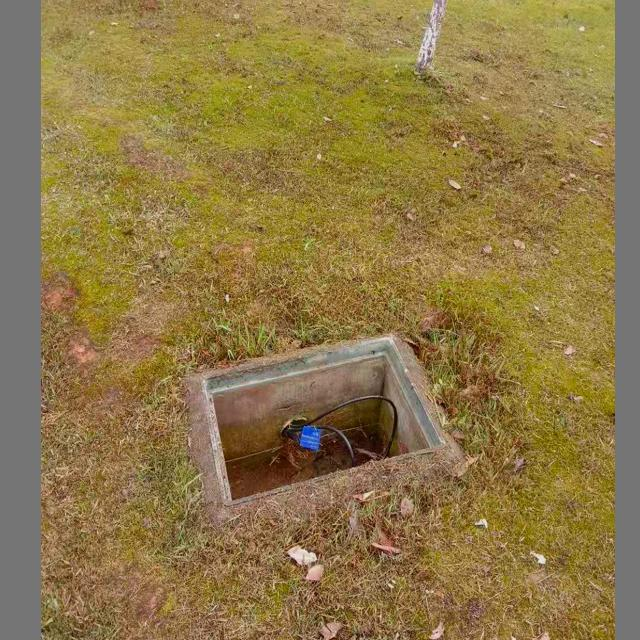lose: (191, 331, 445, 515)
